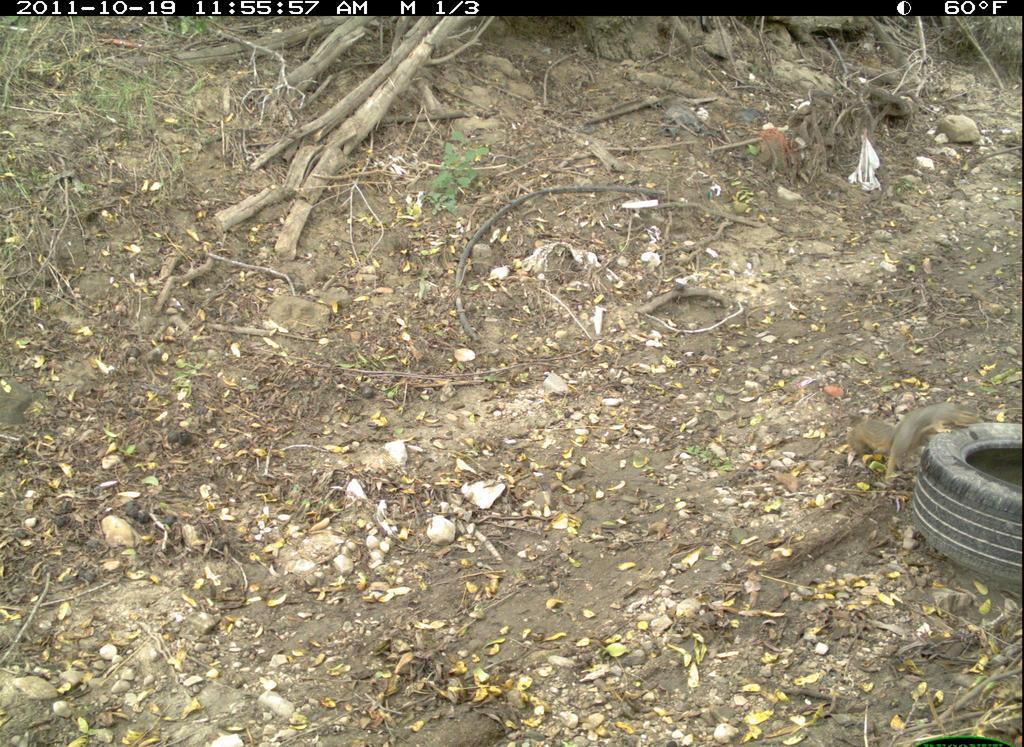squirrel: (841, 388, 989, 488)
